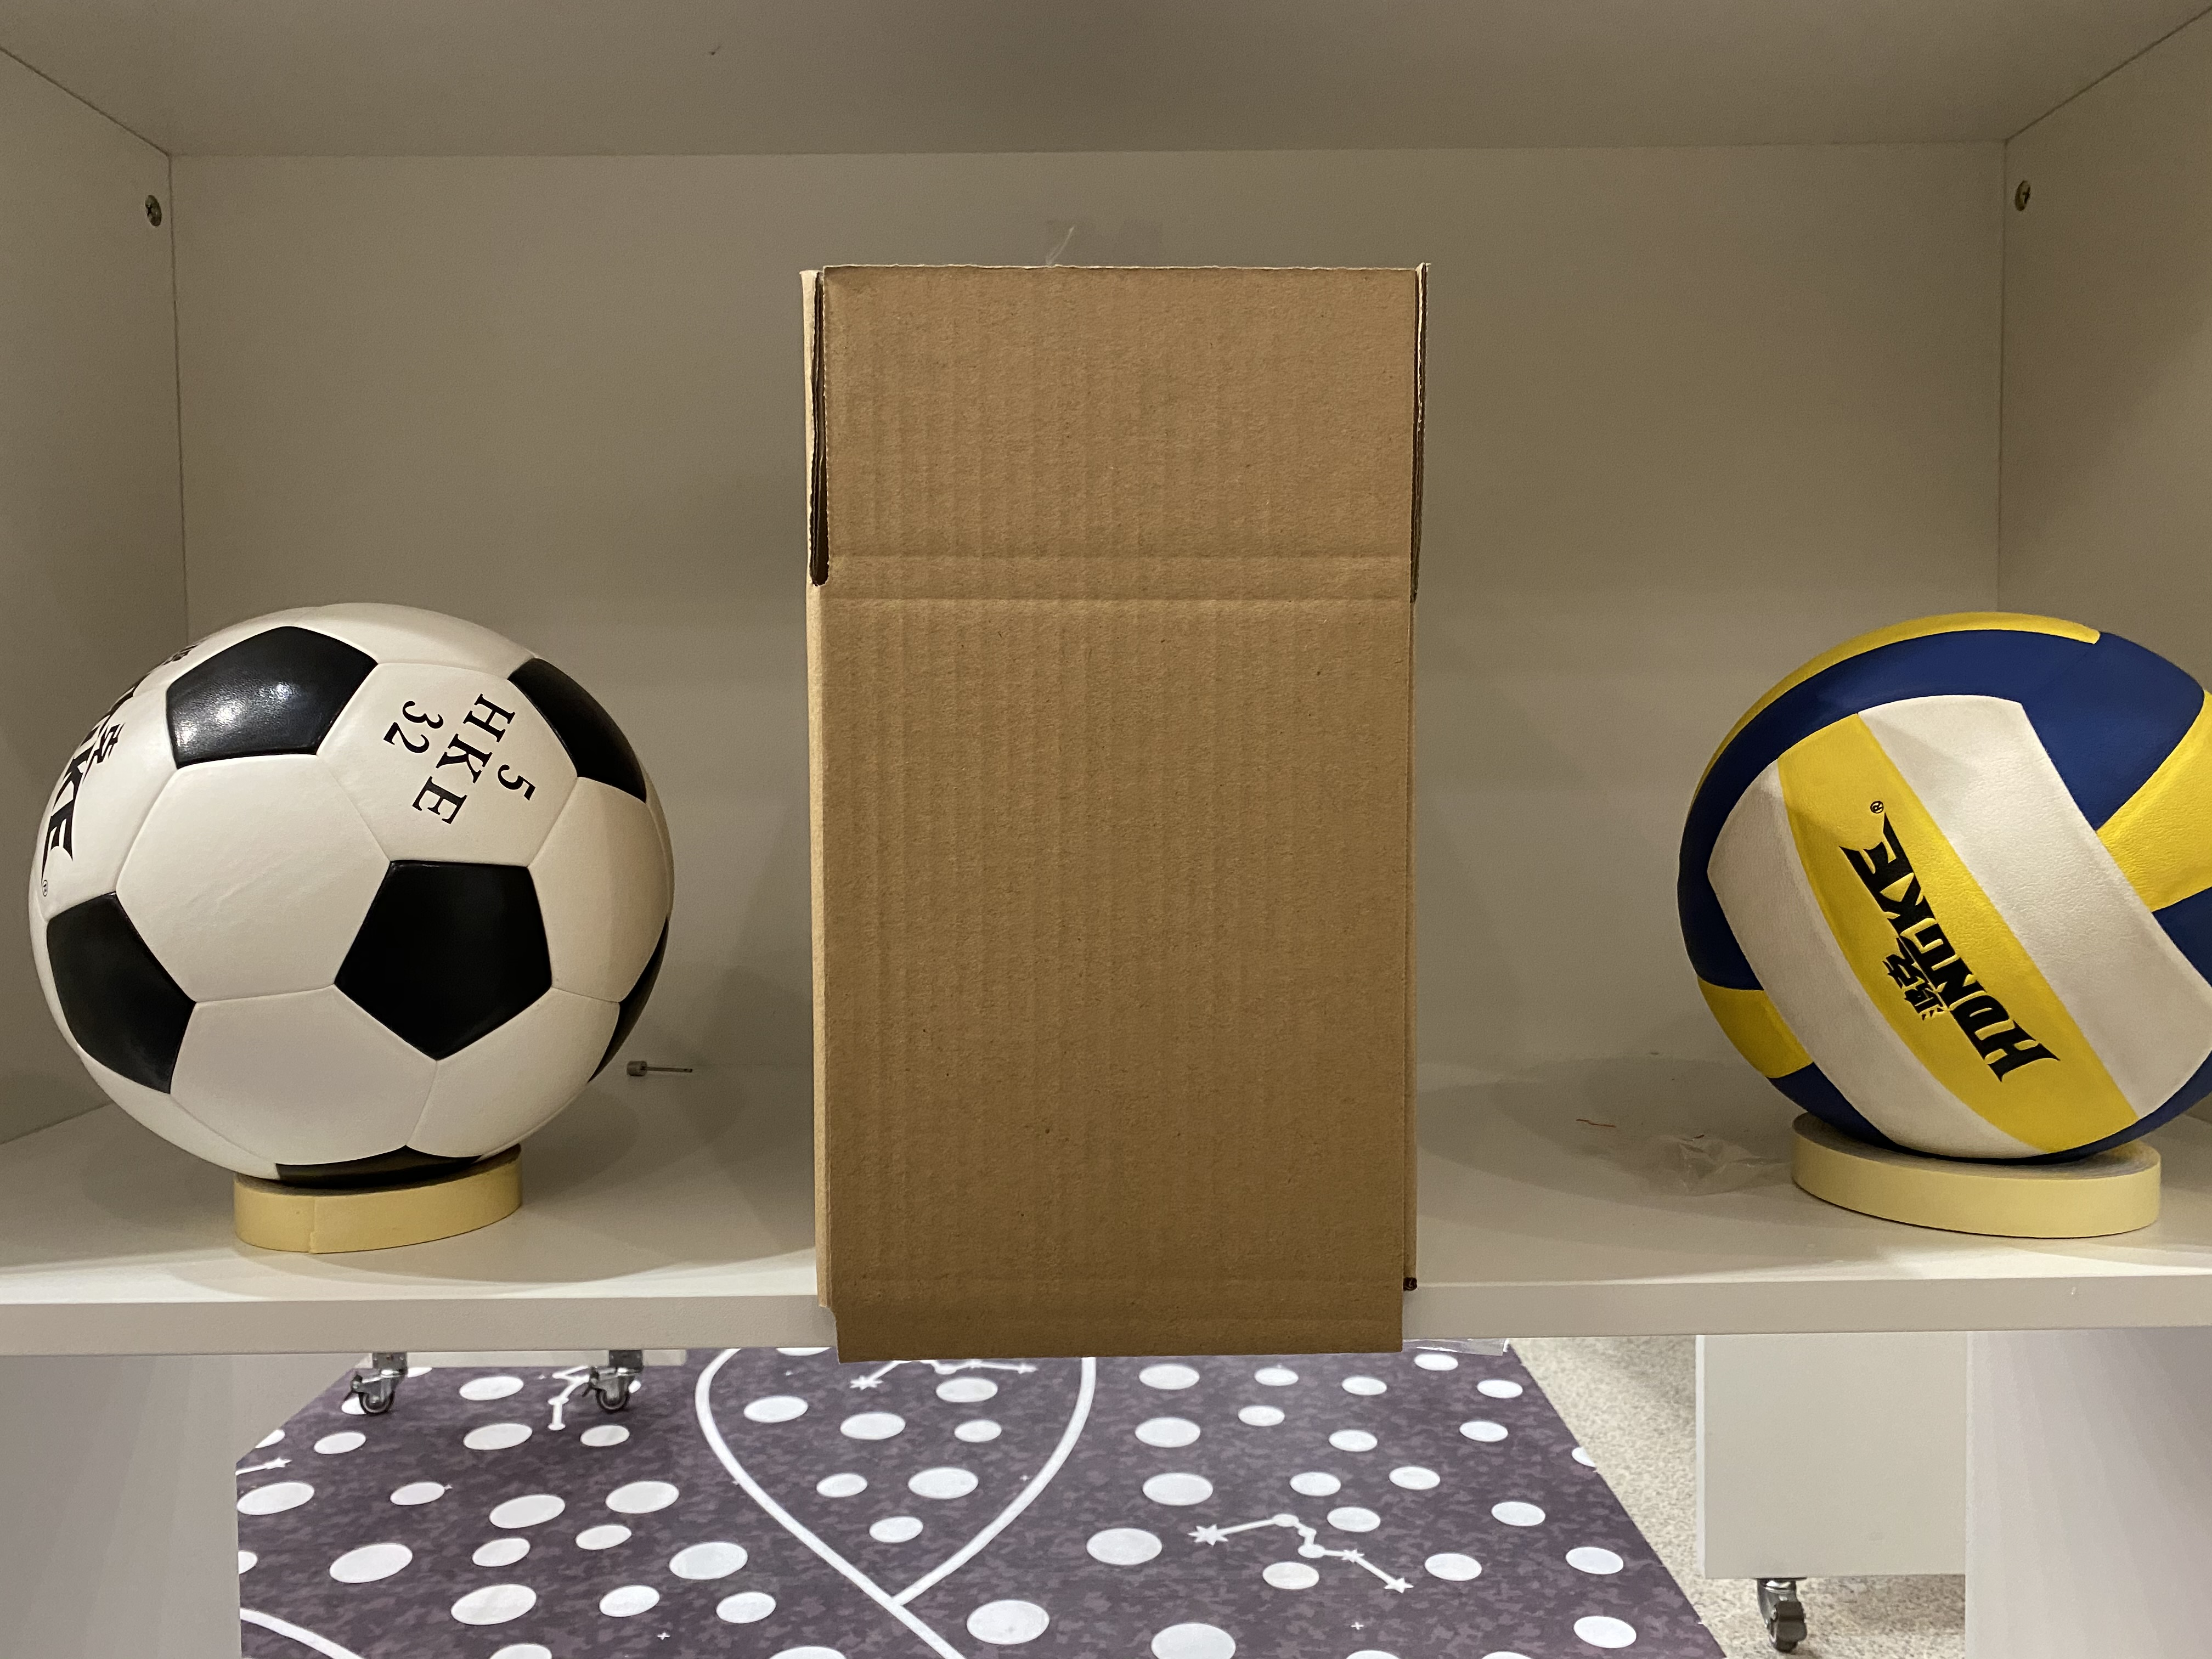football: (33, 603, 674, 1164)
volleyball: (1686, 619, 2202, 1138)
